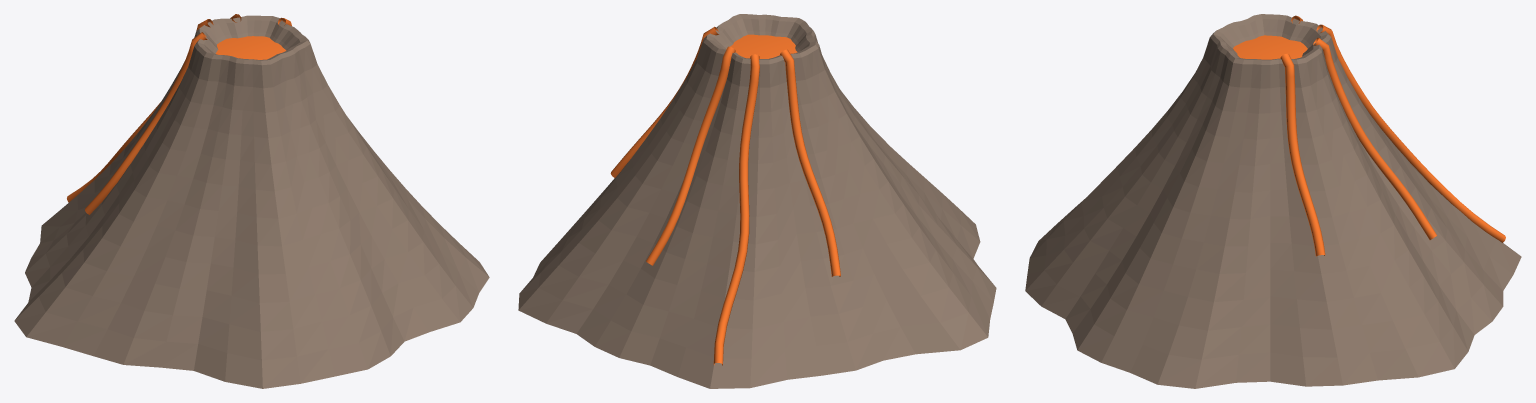
The model's file is Volcano.obj.
3 views of the same model, side by side, from view 1: azimuth 30°, elevation 25°; view 2: azimuth 150°, elevation 25°; view 3: azimuth 270°, elevation 25° (orthographic). The views are drawn at different scales.
Visible parts, largest first — view 1: Rock, Lava; view 2: Rock, Lava; view 3: Rock, Lava.
Boxes of the visible parts, x1,y1,x2,y2 form: Rock: (14,15,489,388); Lava: (67,14,291,214); Rock: (518,14,996,388); Lava: (610,26,840,365); Rock: (1025,14,1521,388); Lava: (1233,15,1505,256).
Size of the model in its own units: 108 by 61.96 by 108.
